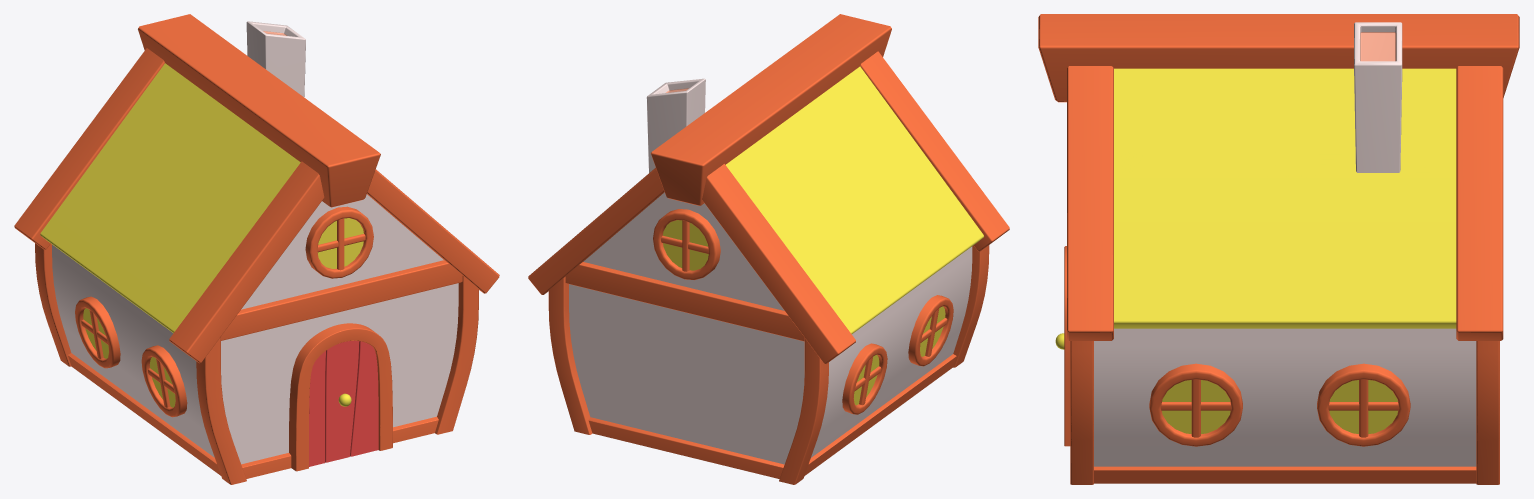
File: Farm_20_House_1.glb
3 views of the same model, side by side, from view 1: azimuth 30°, elevation 25°; view 2: azimuth 150°, elevation 25°; view 3: azimuth 270°, elevation 25° (orthographic). The views are drawn at different scales.
Visible parts, largest first — view 1: Farm_20_House_1; view 2: Farm_20_House_1; view 3: Farm_20_House_1.
Part boxes in pixels (x1,y1,x2,y2): Farm_20_House_1: [14, 14, 499, 484]; Farm_20_House_1: [528, 14, 1009, 484]; Farm_20_House_1: [1038, 14, 1519, 484].
Bounding box in the file's own units: 5.07 × 5.13 × 5.36.
Materials: 1 (1 with a texture image).
